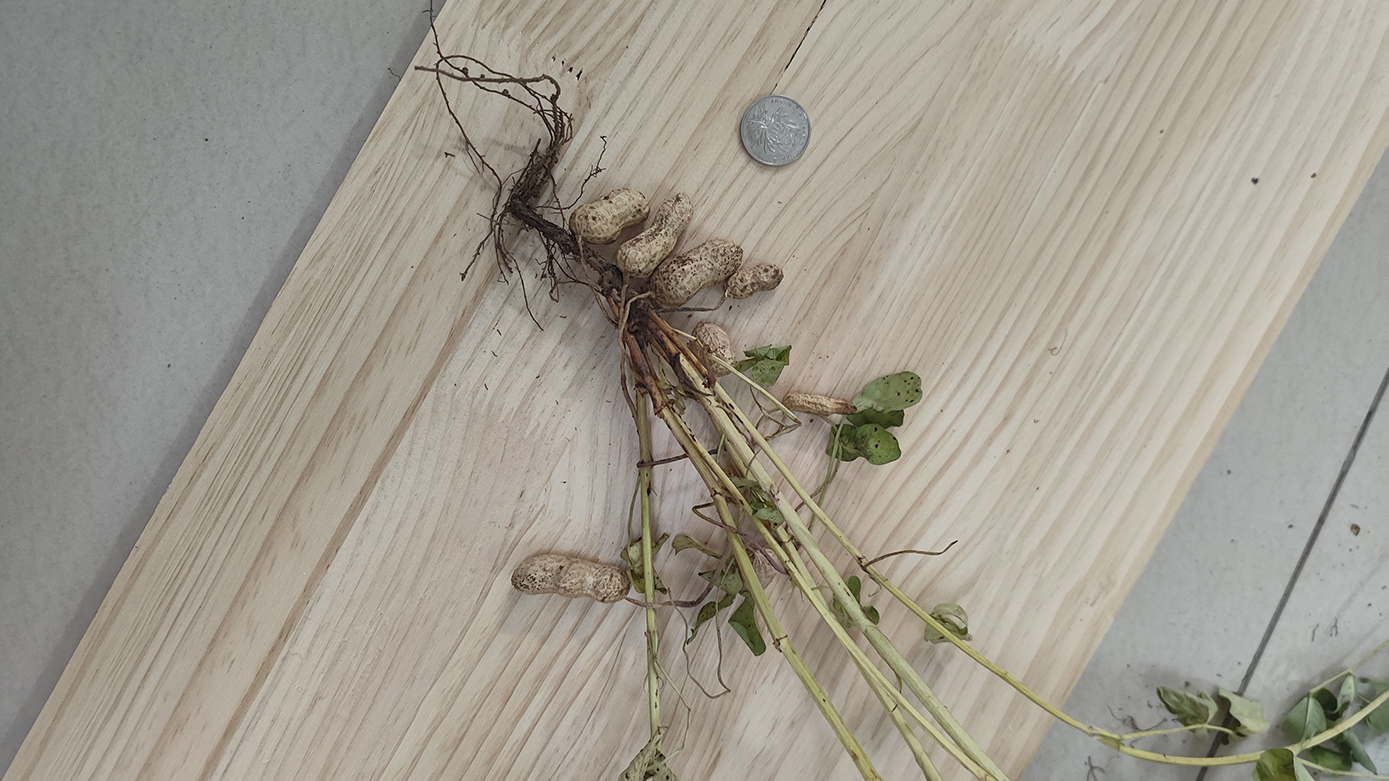h: (647, 237, 743, 307), (513, 551, 632, 603), (621, 194, 693, 275), (568, 187, 653, 243), (690, 320, 736, 375), (729, 265, 784, 296)
